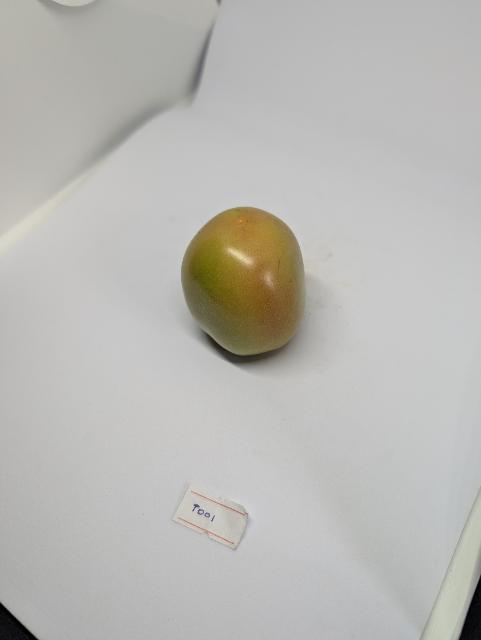breaker: (172, 205, 314, 368)
